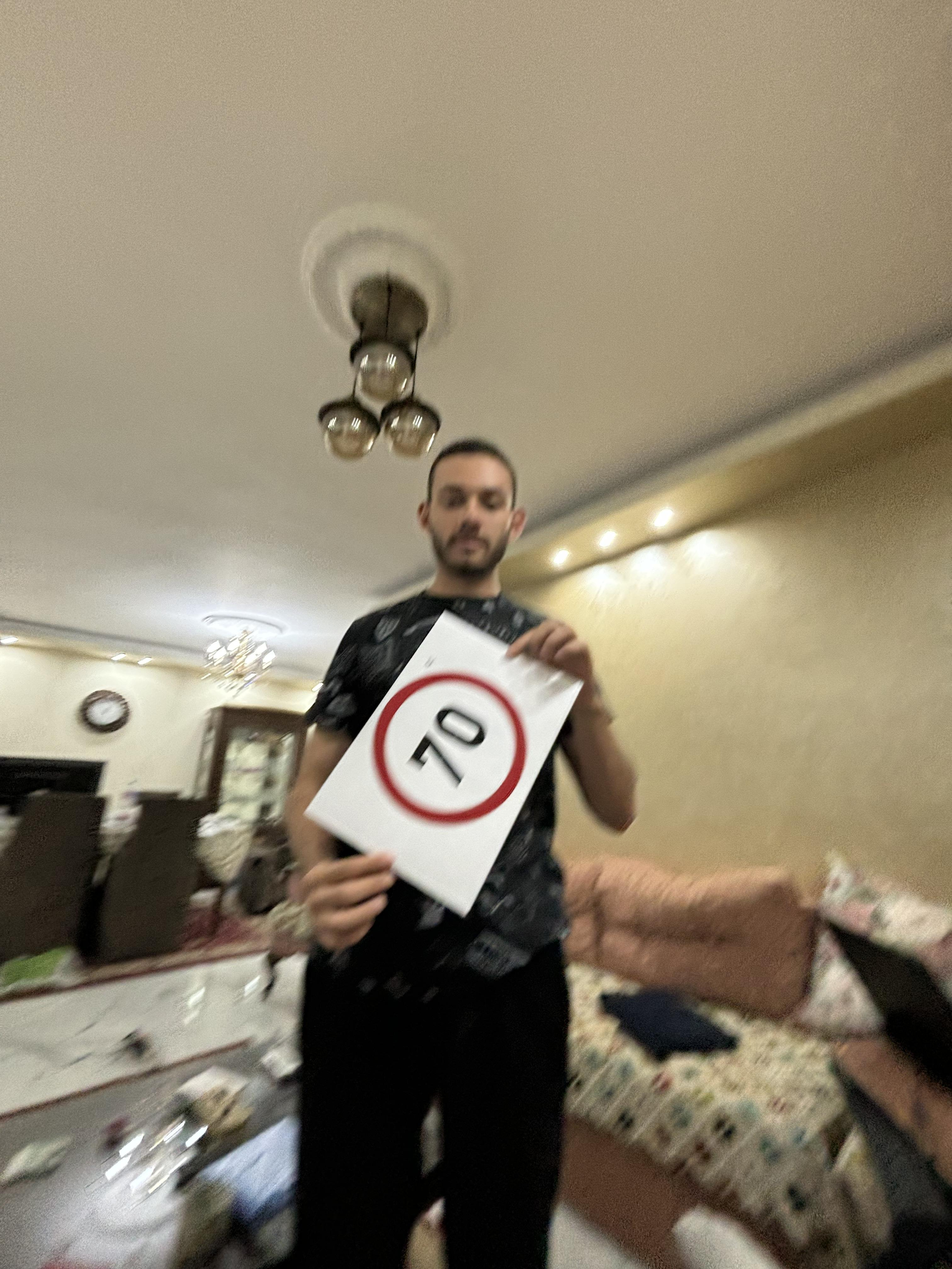70-Speed: (369, 670, 536, 826)
